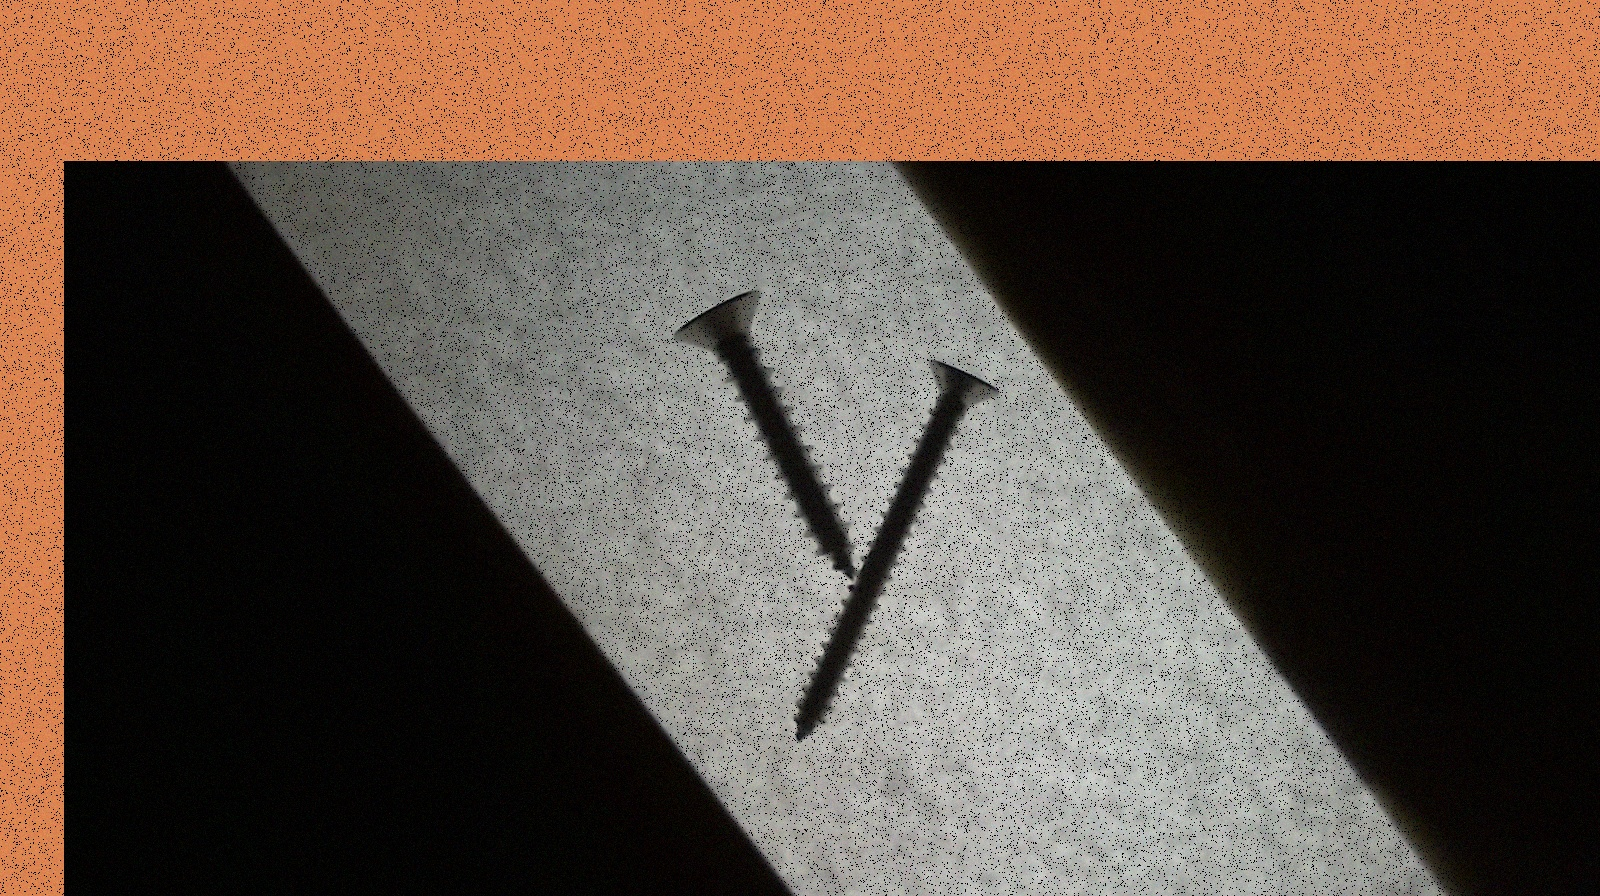S001: (674, 286, 862, 585)
S002: (795, 359, 998, 750)
